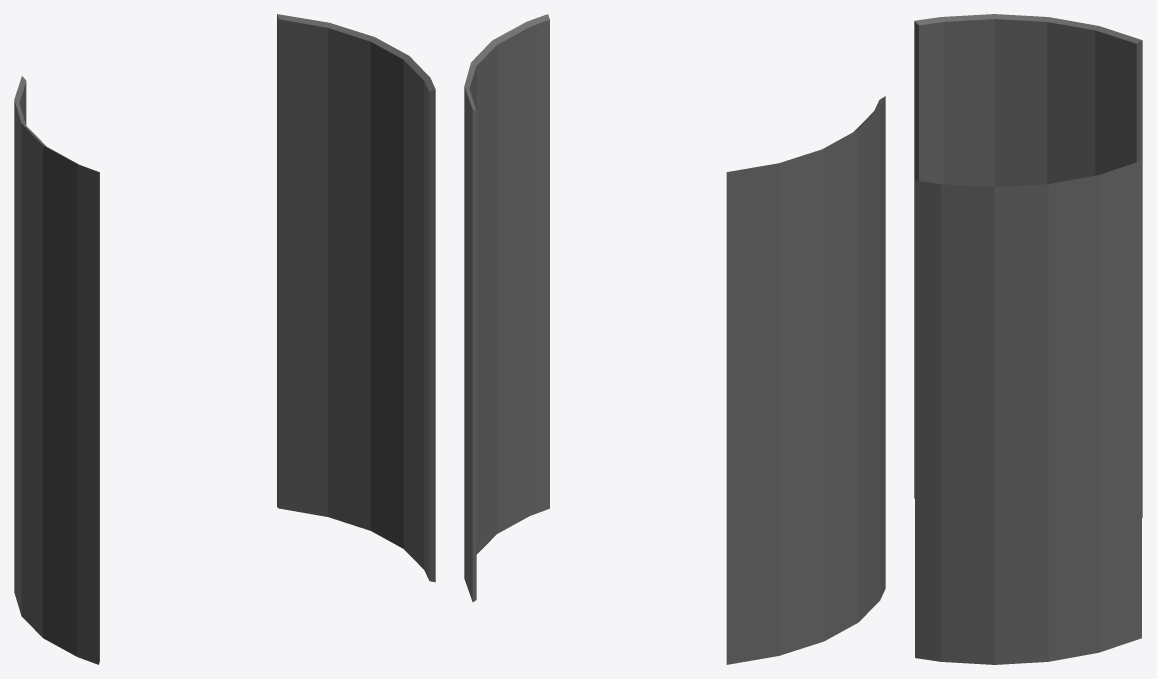
File: Dest_Hall_Field_Physic_InnerWall.FBX
3 views of the same model, side by side, from view 1: azimuth 30°, elevation 25°; view 2: azimuth 150°, elevation 25°; view 3: azimuth 270°, elevation 25° (orthographic). The views are drawn at different scales.
Visible parts, largest first — view 1: Object003; view 2: Object003; view 3: Object003.
Boxes of the visible parts, x1,y1,x2,y2 form: Object003: (14, 14, 435, 664); Object003: (464, 14, 885, 664); Object003: (914, 14, 1142, 664).
Size of the model in its own units: 184 by 237 by 103.
